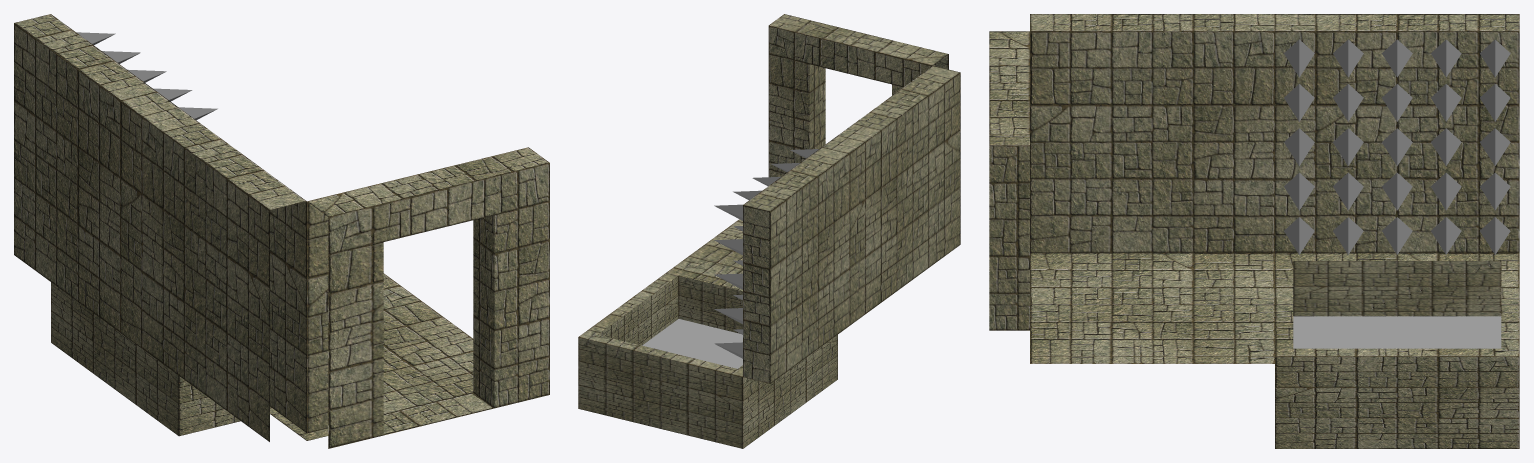
The model's file is BasicTileSet01_Ben.fbx.
3 renders of one model, left to right at view 1: azimuth 30°, elevation 25°; view 2: azimuth 150°, elevation 25°; view 3: azimuth 270°, elevation 25°, orthographic. The views are drawn at different scales.
Parts seen in each view (by area): view 1: Doorway, Wallmiddle, WallEndcap, AcidPit, FloorAndCeiling, Spikes; view 2: AcidPit, WallEndcap, Wallmiddle, Doorway, AcidPlane, Spikes, FloorAndCeiling; view 3: Wallmiddle, WallEndcap, AcidPit, FloorAndCeiling, Spikes, Doorway, AcidPlane.
Part boxes in pixels (x1,y1,x2,y2): Doorway: (307,147,549,448); Wallmiddle: (142,107,306,441); WallEndcap: (14,14,178,348); AcidPit: (51,273,400,436); FloorAndCeiling: (270,285,473,440); Spikes: (76,32,217,120); AcidPit: (578,267,837,448); WallEndcap: (743,135,865,383); Wallmiddle: (838,66,960,313); Doorway: (768,14,948,177); AcidPlane: (642,319,742,368); Spikes: (714,149,818,358); FloorAndCeiling: (674,219,742,279); Wallmiddle: (1030,14,1274,252); WallEndcap: (1275,14,1519,252); AcidPit: (1275,253,1519,448); FloorAndCeiling: (1030,253,1274,363); Spikes: (1284,39,1510,254); Doorway: (989,31,1029,330); AcidPlane: (1293,316,1501,348).
Size of the model in its own units: 3.5 by 4.25 by 6.5.
